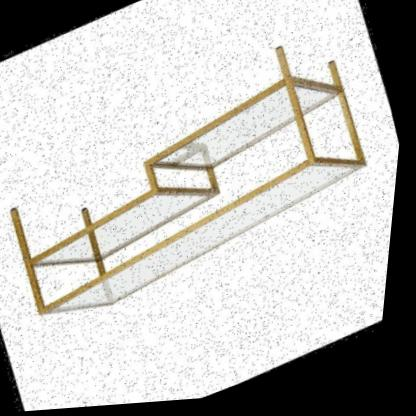Table: (0, 6, 414, 369)
